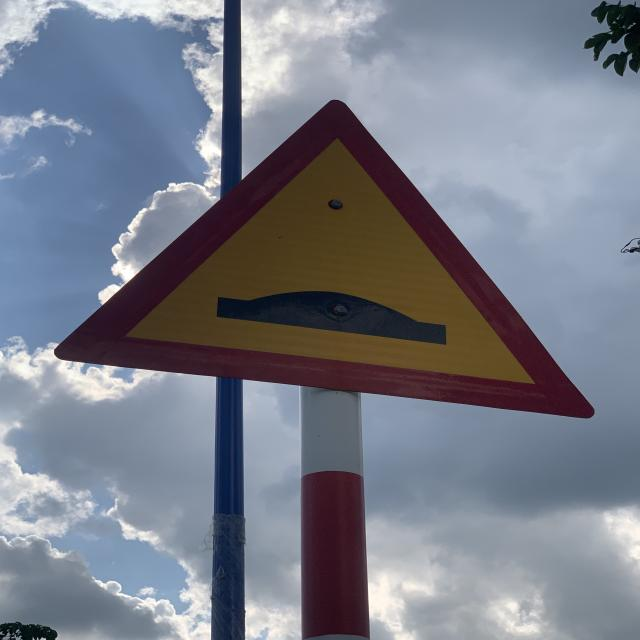Duong_Cong_Ben_Phai: (55, 99, 600, 418)
